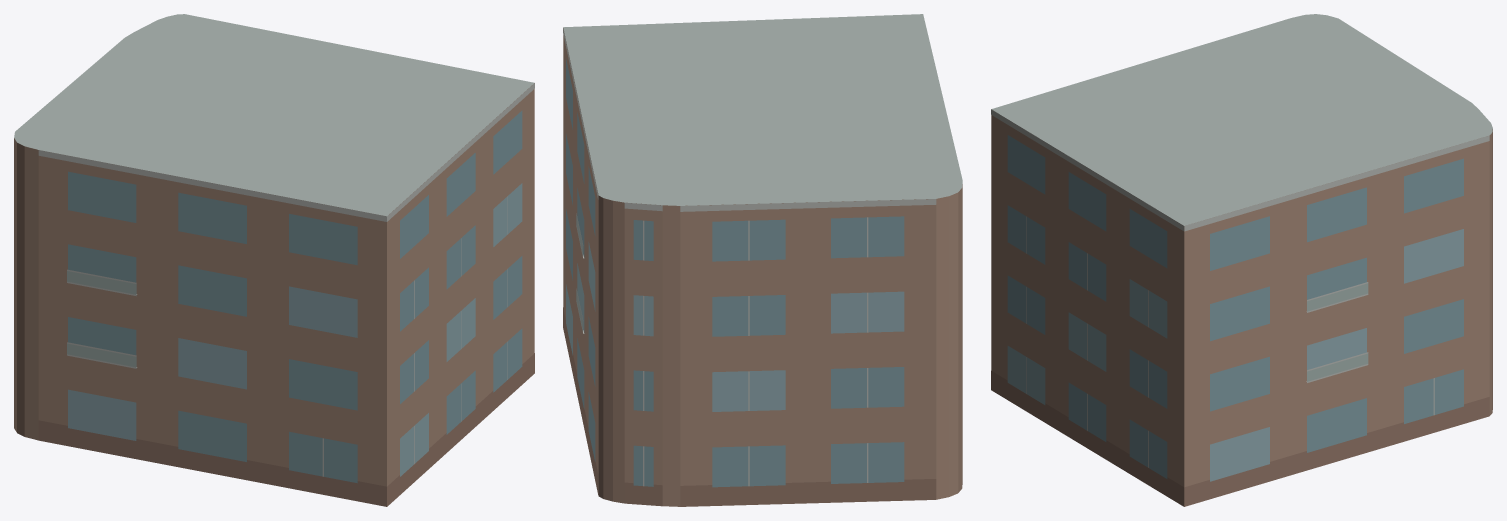
File: survey-upis-32811875.glb
3 renders of one model, left to right at view 1: azimuth 30°, elevation 25°; view 2: azimuth 150°, elevation 25°; view 3: azimuth 270°, elevation 25°, orthographic. The views are drawn at different scales.
Parts seen in each view (by area): view 1: survey-upis-32811875.tmp; view 2: survey-upis-32811875.tmp; view 3: survey-upis-32811875.tmp.
Part boxes in pixels (left/top/right/bottom): survey-upis-32811875.tmp: left=14, top=14, right=534, bottom=506; survey-upis-32811875.tmp: left=563, top=14, right=962, bottom=506; survey-upis-32811875.tmp: left=991, top=14, right=1492, bottom=506.
Size of the model in its own units: 19.91 by 12.3 by 19.92.
